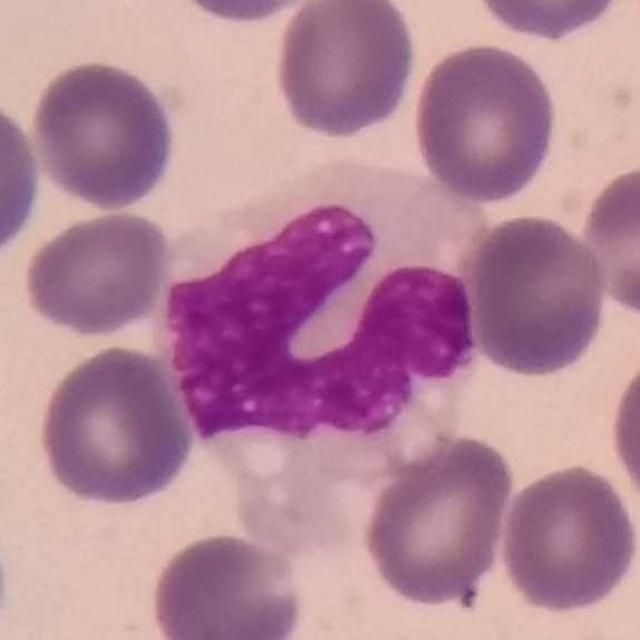mono: (156, 155, 494, 560)
